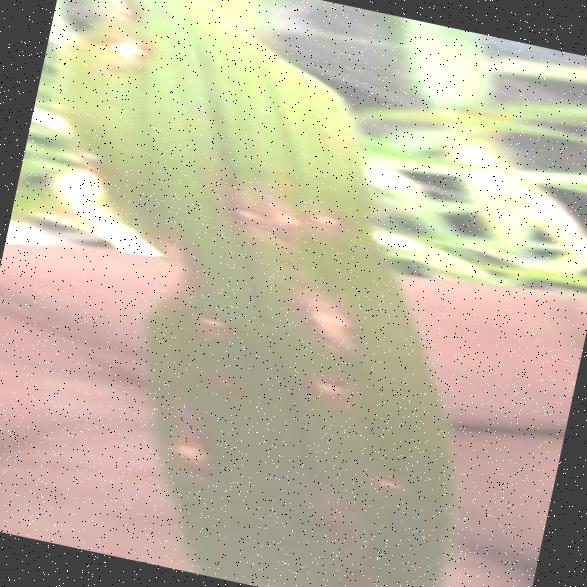Leaf_smut: (270, 259, 378, 364), (204, 170, 312, 254), (90, 11, 172, 91), (147, 410, 218, 478), (298, 360, 374, 415), (354, 452, 421, 509), (304, 181, 356, 250), (176, 294, 240, 343)
